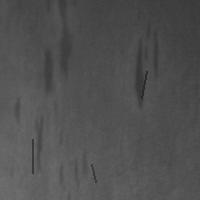inclusion: (129, 19, 162, 114), (53, 1, 77, 83), (54, 147, 92, 193), (30, 114, 52, 176), (34, 46, 57, 97), (9, 94, 25, 127), (139, 69, 148, 100), (89, 162, 97, 184), (30, 137, 34, 175)
